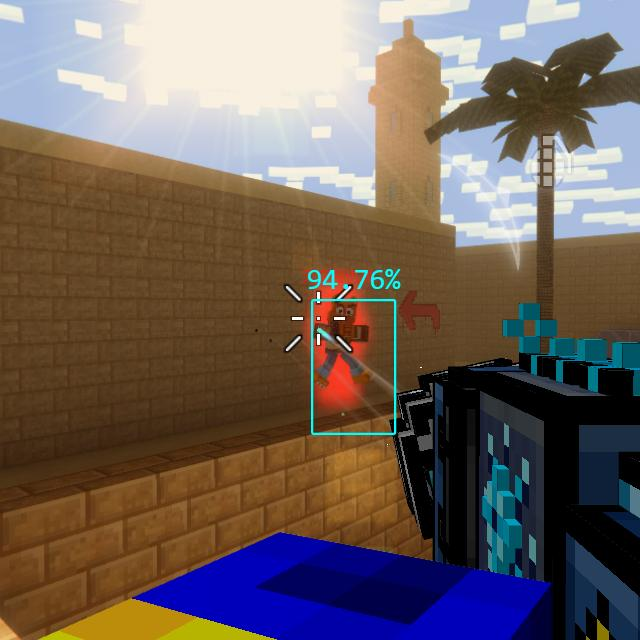Enemy: (313, 299, 375, 390)
